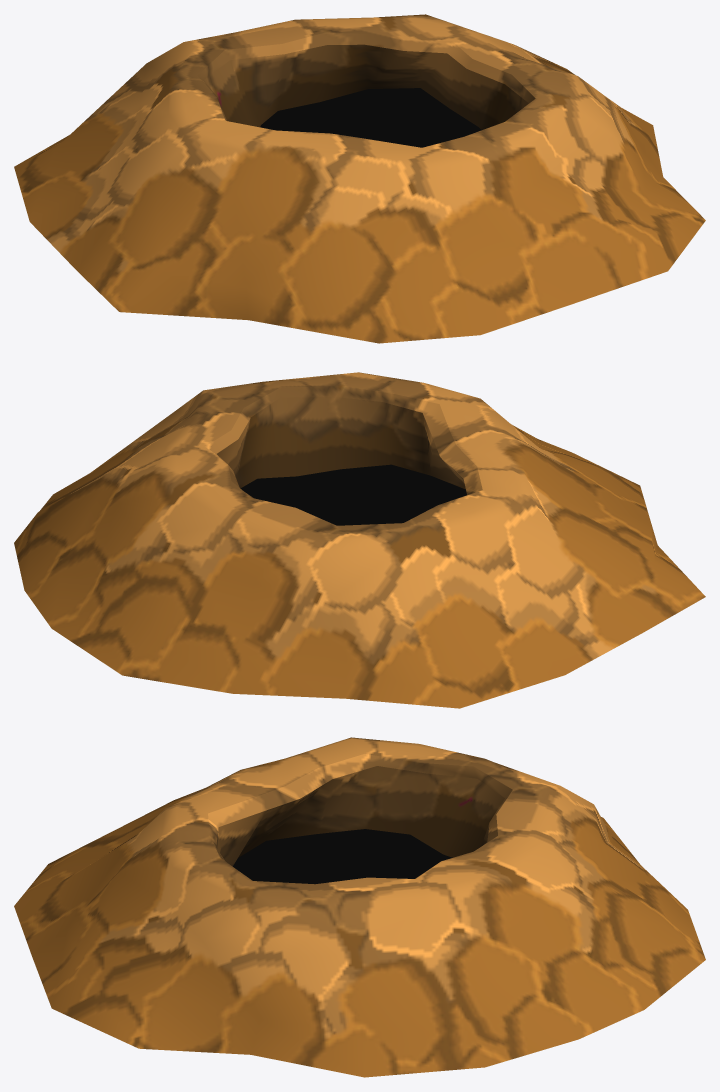
File: nido.FBX
3 renders of one model, top to bottom at view 1: azimuth 30°, elevation 25°; view 2: azimuth 150°, elevation 25°; view 3: azimuth 270°, elevation 25°, orthographic.
Parts seen in each view (by area): view 1: nido; view 2: nido; view 3: nido.
Part boxes in pixels (x1,y1,x2,y2): nido: (14, 14, 705, 343); nido: (14, 372, 705, 708); nido: (14, 737, 705, 1077).
Size of the model in its own units: 79.62 by 13.98 by 79.08.
